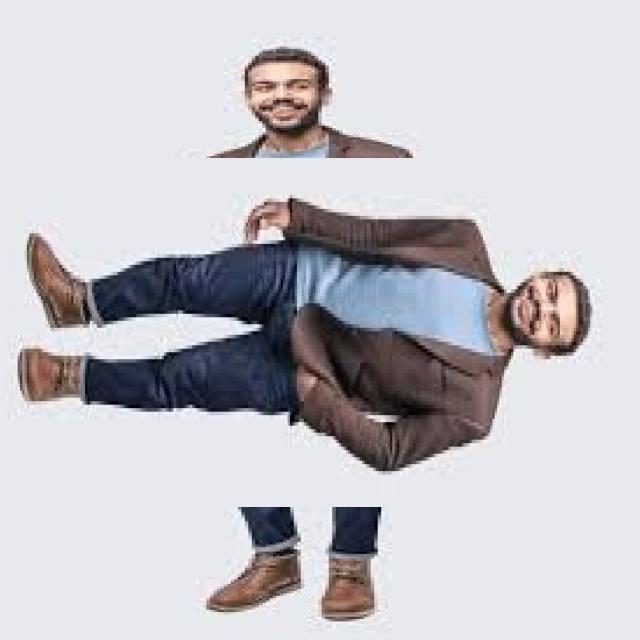NotFall: (27, 167, 640, 500)
